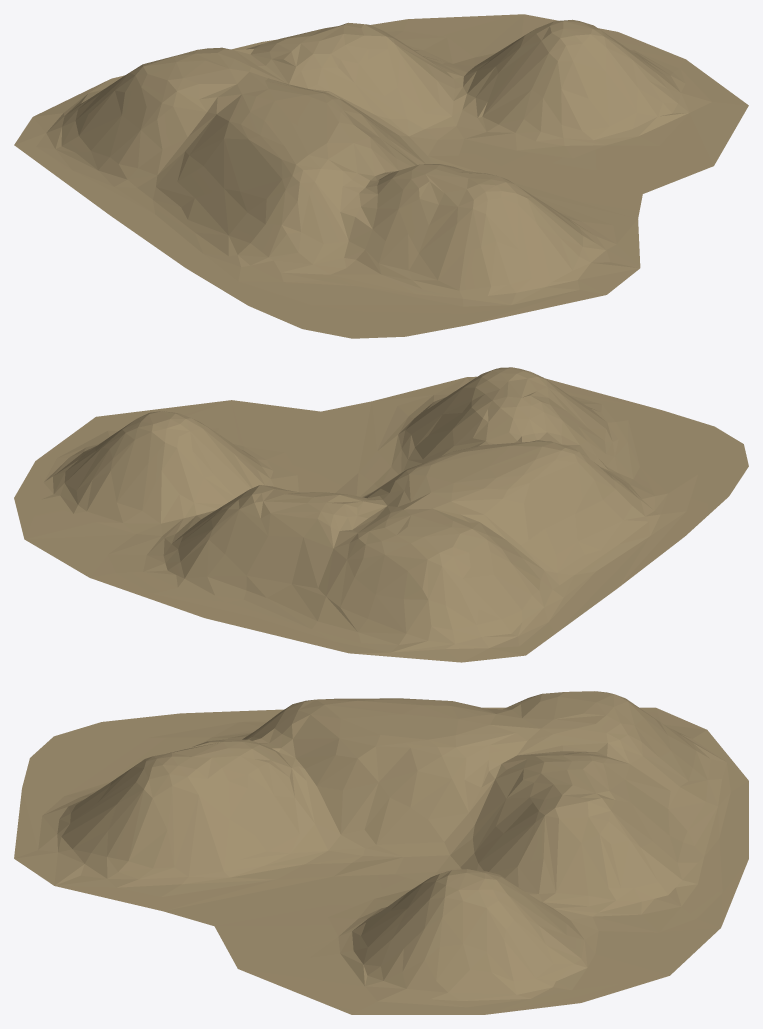
File: SM_Env_Beach_03.glb
The picture shows the model from 3 angles, top to bottom: view 1: azimuth 30°, elevation 25°; view 2: azimuth 150°, elevation 25°; view 3: azimuth 270°, elevation 25°; orthographic projection. The views are drawn at different scales.
Parts seen in each view (by area): view 1: SM_Env_Beach_03; view 2: SM_Env_Beach_03; view 3: SM_Env_Beach_03.
Part boxes in pixels (x1,y1,x2,y2): SM_Env_Beach_03: (14, 14, 748, 338); SM_Env_Beach_03: (14, 367, 748, 662); SM_Env_Beach_03: (14, 691, 748, 1014).
Bounding box in the file's own units: 0.3208 × 0.0369 × 0.3244.
